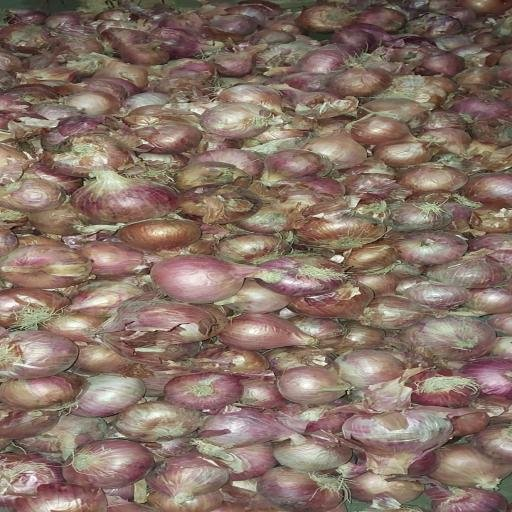damaged: (386, 202, 464, 231)
healthy: (142, 258, 268, 304), (76, 171, 184, 221), (71, 438, 172, 489), (211, 314, 327, 352), (272, 365, 362, 402), (76, 370, 148, 416), (169, 372, 249, 408), (205, 101, 279, 134), (282, 434, 346, 472)
